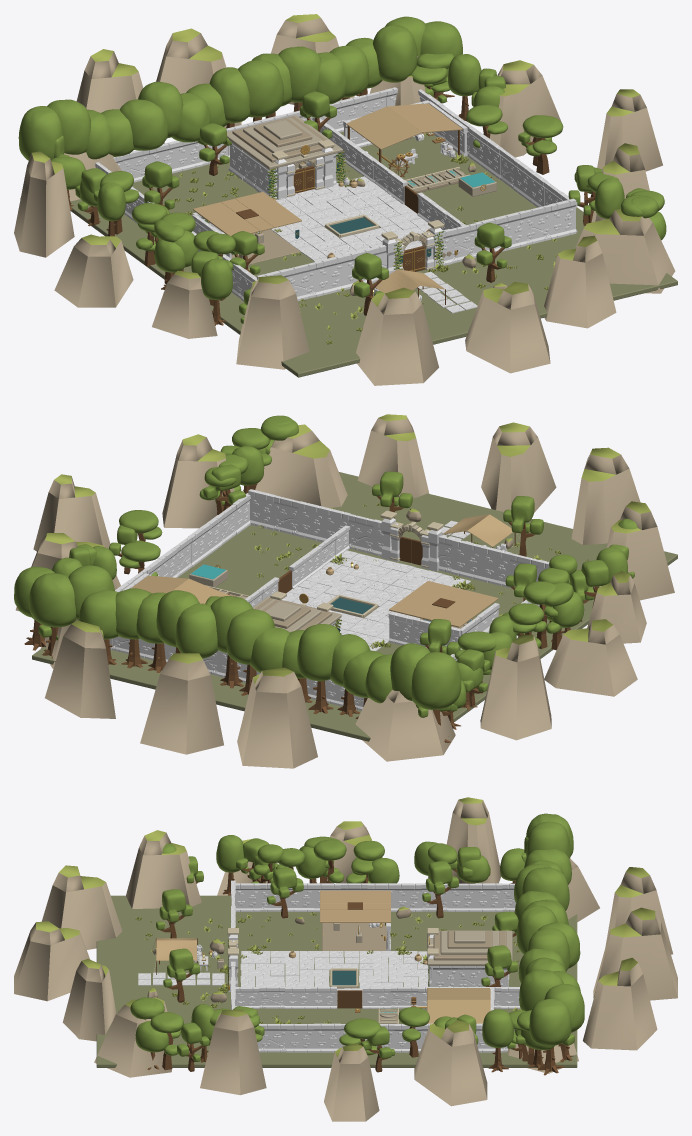
Rendered from World.fbx.
3 renders of one model, top to bottom at view 1: azimuth 30°, elevation 25°; view 2: azimuth 150°, elevation 25°; view 3: azimuth 270°, elevation 25°, orthographic. The views are drawn at different scales.
Visible parts, largest first — view 1: C_Ground, D_KenneyNature_rock_tallC.011, D_KenneyNature_rock_tallC.012, D_KenneyNature_rock_tallC.010, D_KenneyNature_rock_tallC.013, D_KenneyNature_rock_tallC.007, D_KenneyNature_rock_tallC.014, D_KenneyNature_rock_tallC.008, D_KenneyNature_rock_tallC.001, D_KenneyNature_rock_tallC, D_KenneyNature_rock_tallC.009, D_KenneyNature_rock_tallC.004 (+62 smaller); view 2: C_Ground, D_KenneyNature_rock_tallC.005, D_KenneyNature_rock_tallC.004, D_KenneyNature_rock_tallC.007, D_KenneyNature_rock_tallC.008, D_KenneyNature_rock_tallC.003, D_KenneyNature_rock_tallC.014, D_KenneyNature_rock_tallC.012, D_KenneyNature_rock_tallC.006, D_KenneyNature_rock_tallC.011, D_KenneyNature_rock_tallC.015, D_KenneyNature_rock_tallC.013 (+55 smaller); view 3: C_Ground, D_KenneyNature_rock_tallC.003, D_KenneyNature_rock_tallC.001, D_KenneyNature_rock_tallC.012, D_KenneyNature_rock_tallC.004, D_KenneyNature_rock_tallC.015, D_KenneyNature_rock_tallC.011, D_KenneyNature_rock_tallC.010, D_KenneyNature_rock_tallC, D_KenneyNature_rock_tallC.013, D_KenneyNature_rock_tallC.014, D_KenneyNature_rock_tallC.007 (+66 smaller).
Part boxes in pixels (x1,y1,x2,y2): C_Ground: (70,131,677,377); D_KenneyNature_rock_tallC.011: (356,287,438,385); D_KenneyNature_rock_tallC.012: (465,282,550,373); D_KenneyNature_rock_tallC.010: (236,275,309,369); D_KenneyNature_rock_tallC.013: (544,235,616,328); D_KenneyNature_rock_tallC.007: (14,151,74,257); D_KenneyNature_rock_tallC.014: (575,208,675,293); D_KenneyNature_rock_tallC.008: (54,234,133,307); D_KenneyNature_rock_tallC.001: (490,60,561,157); D_KenneyNature_rock_tallC: (597,89,662,171); D_KenneyNature_rock_tallC.009: (152,270,217,338); D_KenneyNature_rock_tallC.004: (156,28,241,128); C_Ground: (32,472,677,741); D_KenneyNature_rock_tallC.005: (237,667,317,768); D_KenneyNature_rock_tallC.004: (140,653,223,754); D_KenneyNature_rock_tallC.007: (480,635,551,740); D_KenneyNature_rock_tallC.008: (544,619,637,696); D_KenneyNature_rock_tallC.003: (45,620,115,718); D_KenneyNature_rock_tallC.014: (255,424,347,507); D_KenneyNature_rock_tallC.012: (481,422,556,512); D_KenneyNature_rock_tallC.006: (355,690,455,761); D_KenneyNature_rock_tallC.011: (571,447,640,544); D_KenneyNature_rock_tallC.015: (162,434,234,528); D_KenneyNature_rock_tallC.013: (357,414,429,497); C_Ground: (96,895,577,1067); D_KenneyNature_rock_tallC.003: (583,957,657,1050); D_KenneyNature_rock_tallC.001: (414,1020,487,1106); D_KenneyNature_rock_tallC.012: (14,921,89,1001); D_KenneyNature_rock_tallC.004: (593,907,677,1000); D_KenneyNature_rock_tallC.015: (200,1009,266,1095); D_KenneyNature_rock_tallC.011: (42,865,122,949); D_KenneyNature_rock_tallC.010: (126,830,201,908); D_KenneyNature_rock_tallC: (324,1043,379,1121); D_KenneyNature_rock_tallC.013: (62,959,116,1041); D_KenneyNature_rock_tallC.014: (94,997,171,1077); D_KenneyNature_rock_tallC.007: (446,797,500,883).
Bounding box in the file's own units: 8305 × 1257 × 8977.
